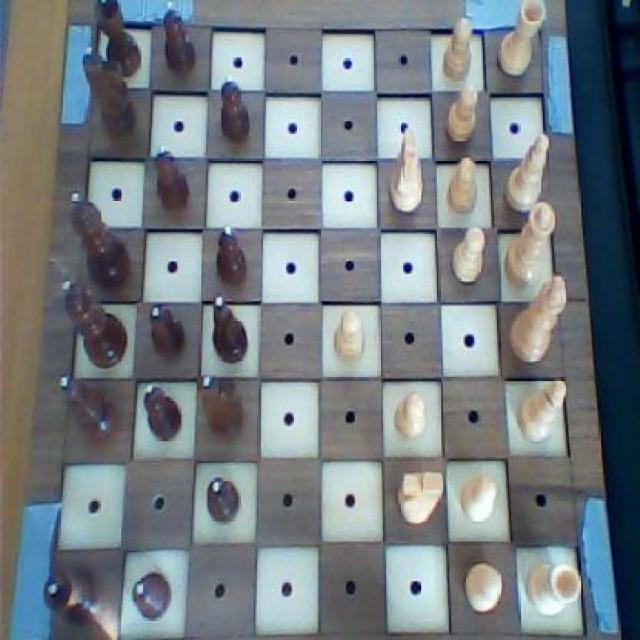bishop: (57, 372, 126, 450), (205, 292, 250, 364)
black-bishop: (60, 278, 129, 369)
black-king: (80, 48, 143, 144), (197, 372, 252, 446)
black-knight: (159, 0, 203, 81), (152, 142, 194, 216), (144, 300, 188, 363), (140, 380, 184, 443), (217, 68, 252, 142), (211, 222, 248, 292), (128, 568, 174, 620), (206, 469, 242, 525)
black-pawn: (66, 188, 137, 293)
black-queen: (89, 0, 145, 81), (38, 562, 106, 624)
black-rook: (503, 132, 555, 217), (514, 376, 569, 448)
white-bishop: (506, 274, 570, 369)
white-king: (386, 125, 427, 217), (392, 464, 446, 532)
white-knight: (446, 152, 483, 223), (455, 468, 500, 526), (442, 8, 476, 83), (449, 223, 487, 290), (462, 558, 504, 617), (445, 83, 486, 143), (391, 386, 431, 445), (332, 306, 367, 368)
white-pawn: (502, 200, 559, 295)
white-queen: (494, 0, 547, 82), (524, 558, 584, 620)
